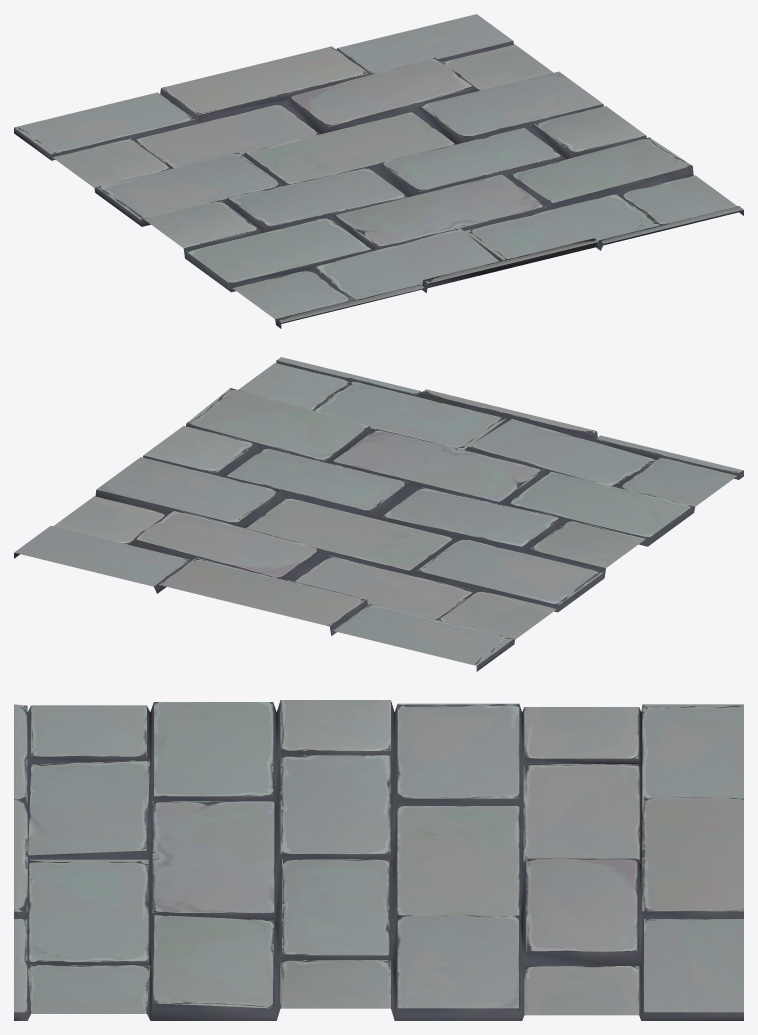
Rendered from terra1.fbx.
3 renders of one model, top to bottom at view 1: azimuth 30°, elevation 25°; view 2: azimuth 150°, elevation 25°; view 3: azimuth 270°, elevation 25°, orthographic. The views are drawn at different scales.
Visible parts, largest first — view 1: terra1; view 2: terra1; view 3: terra1.
Part boxes in pixels (x1=…): terra1: x1=14, y1=14, x2=743, y2=328; terra1: x1=14, y1=357, x2=743, y2=671; terra1: x1=14, y1=700, x2=743, y2=1020.
Size of the model in its own units: 1001 by 26.51 by 1000.
1 material, 1 textured.
